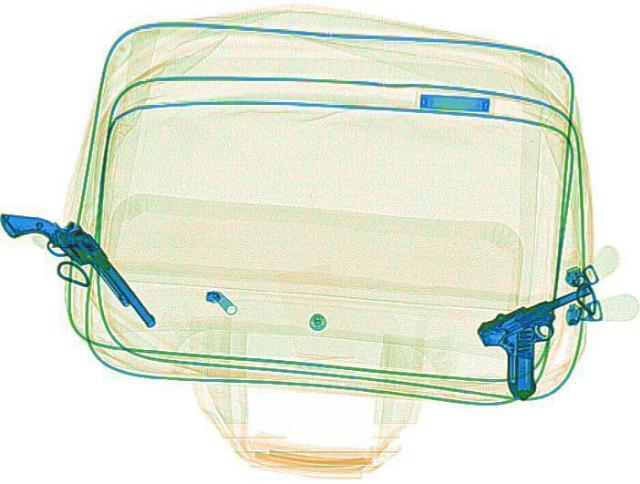Gun: (0, 193, 156, 343), (461, 282, 639, 399)
